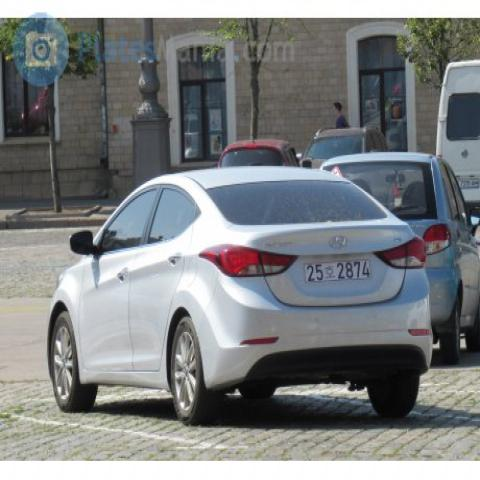LP: (296, 254, 375, 286)
